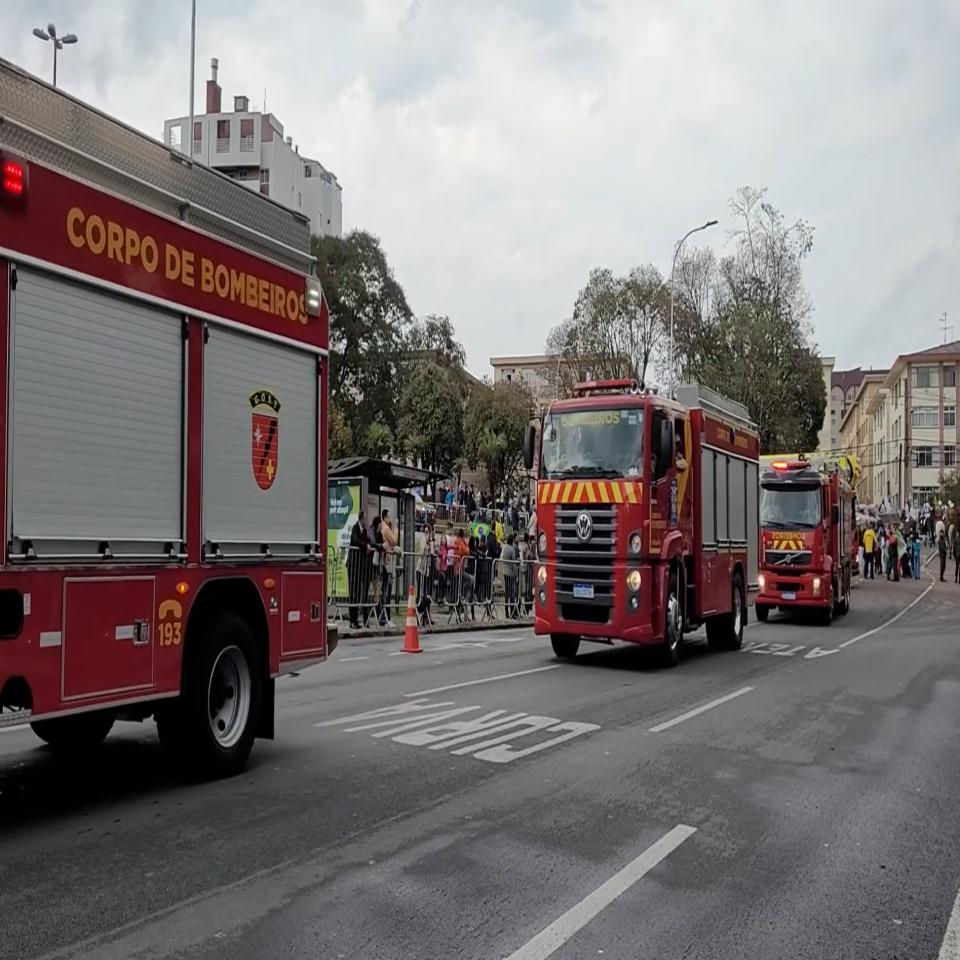viatura: (523, 375, 763, 667), (759, 450, 862, 626)
